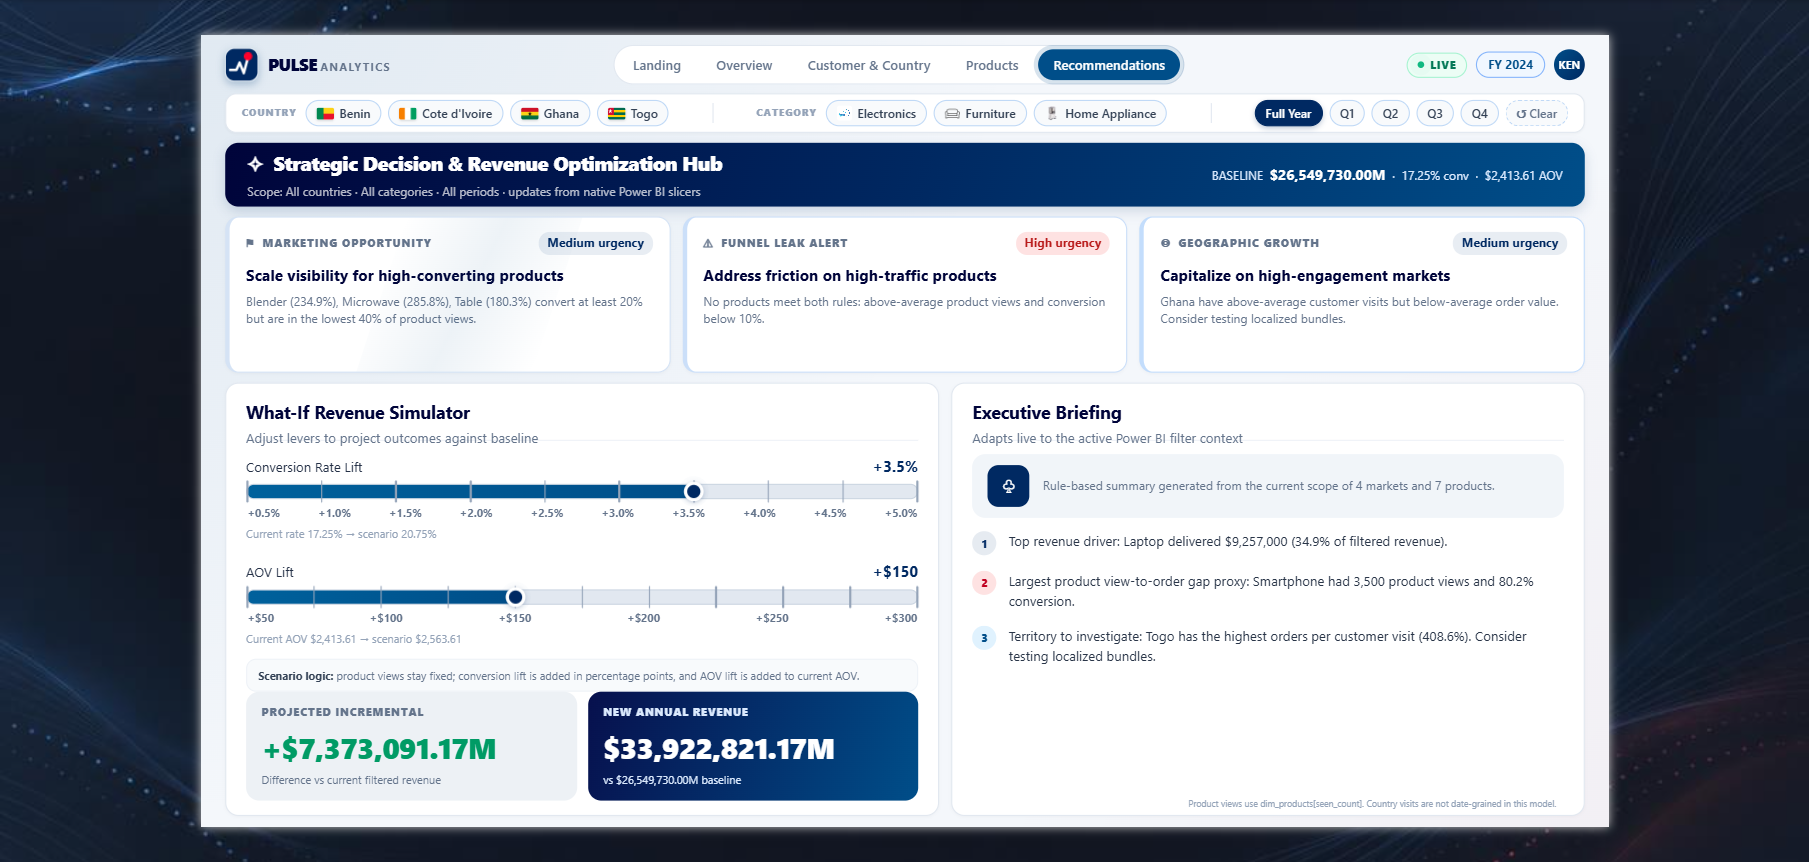

Layout of this report page (visuals, bound fields, positions):
{"tool":"powerbi","page":{"name":"Recommendation Page","canvas":[1280,720],"ordinal":4},"visuals":[{"type":"htmlContent443BE3AD55E043BF878BED274D3A6855","fields":{"content":["HTML_Visuals.Recommendations_Page"]},"box":[0,0,1280,720],"z":0},{"type":"advancedSlicerVisual","fields":{"Values":["conversion_lift.Value"]},"box":[40,400,616,40],"z":1},{"type":"advancedSlicerVisual","fields":{"Values":["aov_lift.Value"]},"box":[40,496,696,48],"z":2}]}

Visuals, with their boxes on the page's 1280x720 design canvas (x1, y1, x2, y2). These are canvas units, not pixel positions in the 1809x862 screenshot, which may show the page scaled, cropped or inside an application window:
htmlContent443BE3AD55E043BF878BED274D3A6855 - HTML_Visuals.Recommendations_Page: l=0, t=0, r=1280, b=720
advancedSlicerVisual - conversion_lift.Value: l=40, t=400, r=656, b=440
advancedSlicerVisual - aov_lift.Value: l=40, t=496, r=736, b=544
